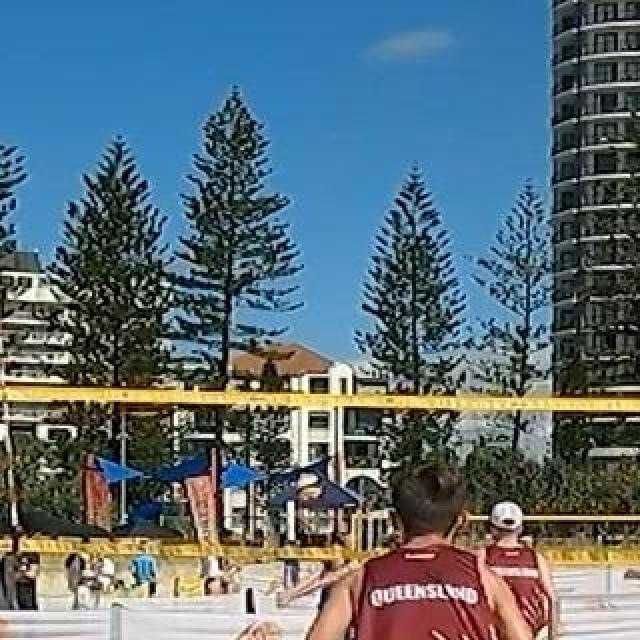volleyball: (296, 473, 324, 501)
